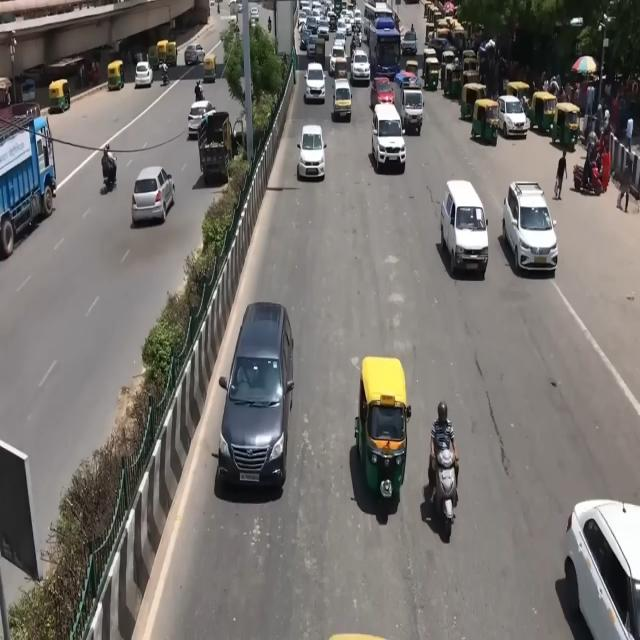auto: (356, 355, 410, 499), (552, 102, 581, 152), (471, 98, 500, 145), (530, 90, 558, 136), (48, 79, 71, 113), (444, 61, 462, 98), (424, 53, 441, 91), (462, 64, 480, 98), (107, 60, 125, 92), (202, 54, 217, 84), (157, 40, 170, 67), (165, 41, 178, 67), (147, 45, 160, 70)
bike-auto: (426, 402, 458, 496), (574, 158, 602, 195), (101, 143, 117, 189), (160, 62, 168, 84), (195, 80, 203, 101)
